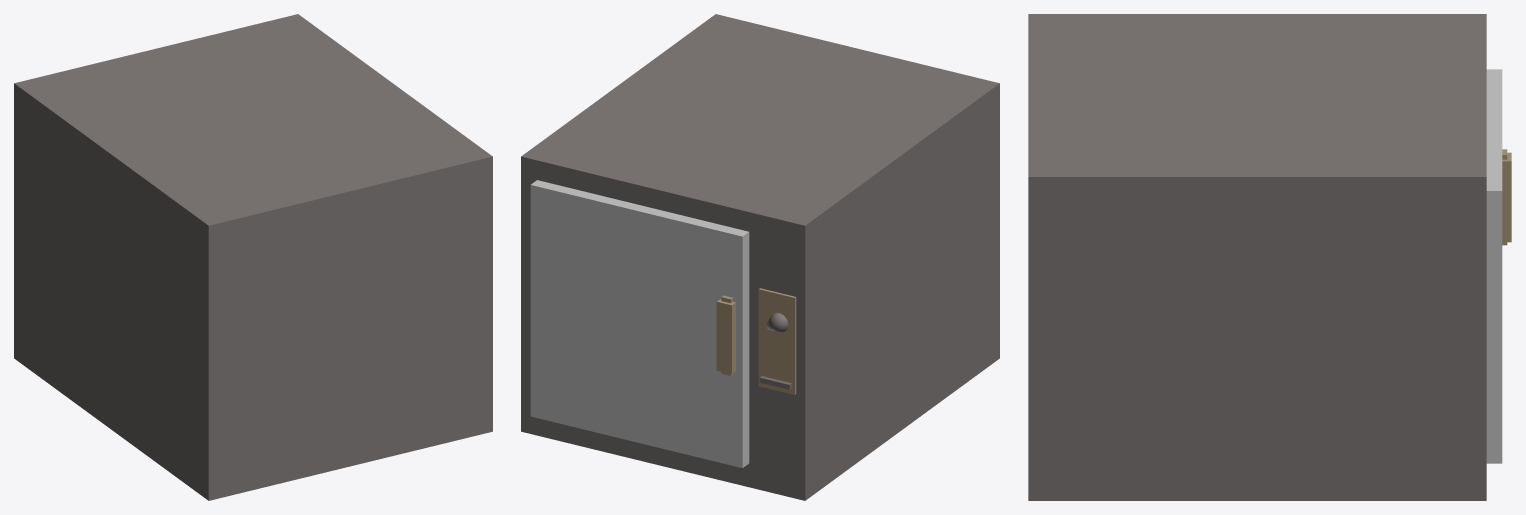
Rendered from SM_Frig_02.FBX.
3 renders of one model, left to right at view 1: azimuth 30°, elevation 25°; view 2: azimuth 150°, elevation 25°; view 3: azimuth 270°, elevation 25°, orthographic. The views are drawn at different scales.
Parts seen in each view (by area): view 1: SM_Frig_02; view 2: SM_Frig_02; view 3: SM_Frig_02.
Part boxes in pixels (x1=…): SM_Frig_02: x1=14, y1=14, x2=492, y2=500; SM_Frig_02: x1=521, y1=14, x2=999, y2=500; SM_Frig_02: x1=1028, y1=14, x2=1511, y2=500.
Bounding box in the file's own units: 73.51 × 92.02 × 68.04.
